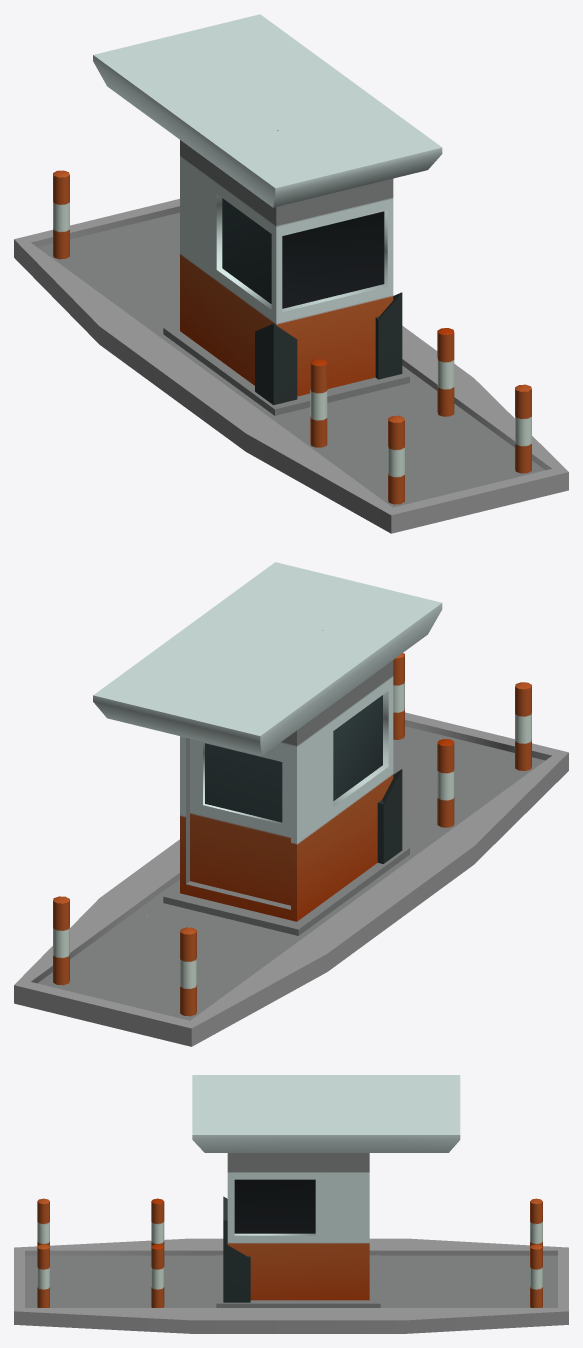
The model's file is ParkingBooth1.fbx.
The picture shows the model from 3 angles, top to bottom: view 1: azimuth 30°, elevation 25°; view 2: azimuth 150°, elevation 25°; view 3: azimuth 270°, elevation 25°; orthographic projection. The views are drawn at different scales.
Parts seen in each view (by area): view 1: ParkingBooth1; view 2: ParkingBooth1; view 3: ParkingBooth1.
Part boxes in pixels (left/top/right/bottom): ParkingBooth1: left=14, top=14, right=568, bottom=533; ParkingBooth1: left=14, top=562, right=568, bottom=1046; ParkingBooth1: left=14, top=1075, right=568, bottom=1333.
Bounding box in the file's own units: 2.73 × 2.92 × 7.82.
